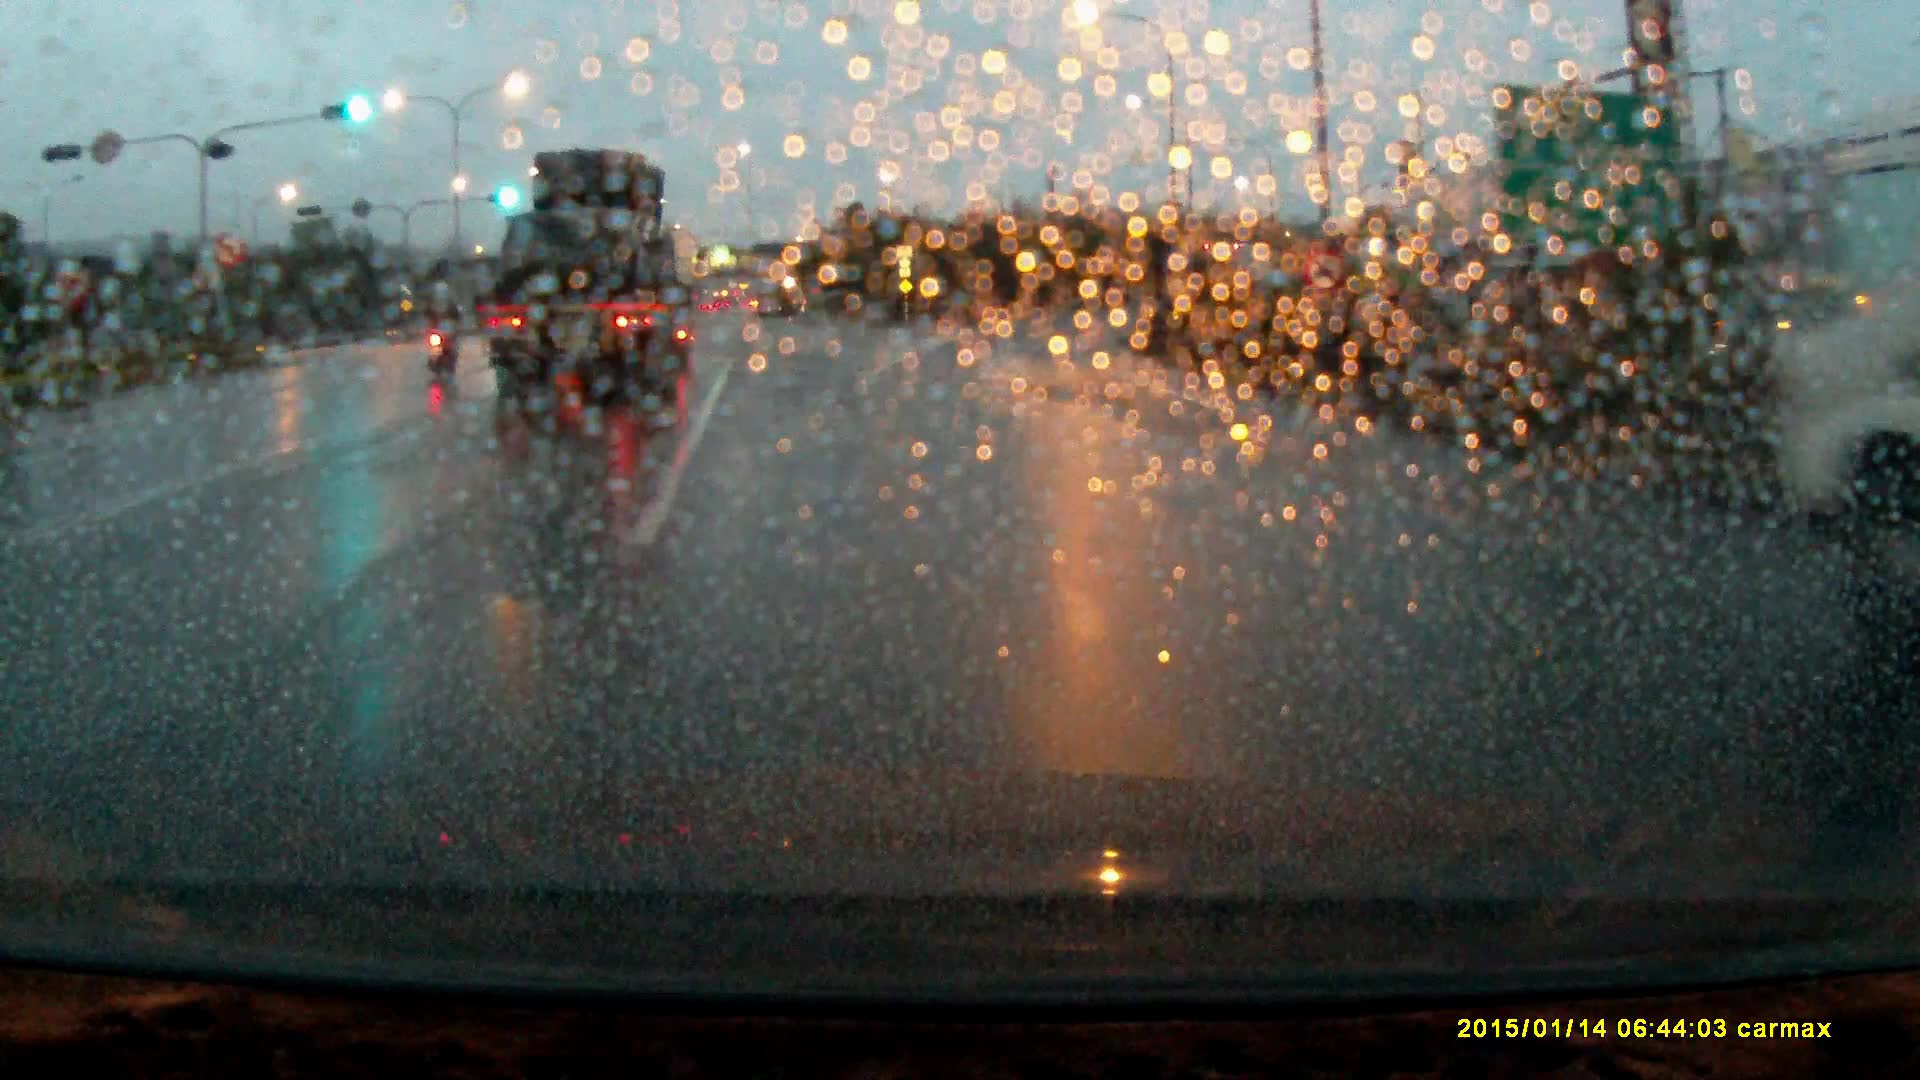rider: (411, 284, 462, 394)
vehicle: (1764, 129, 1920, 574), (485, 146, 695, 411)
